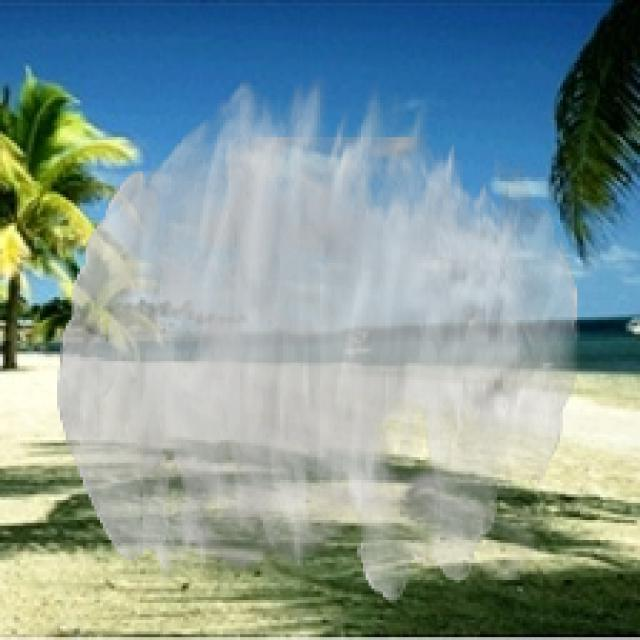Smoke: (57, 74, 580, 603)
